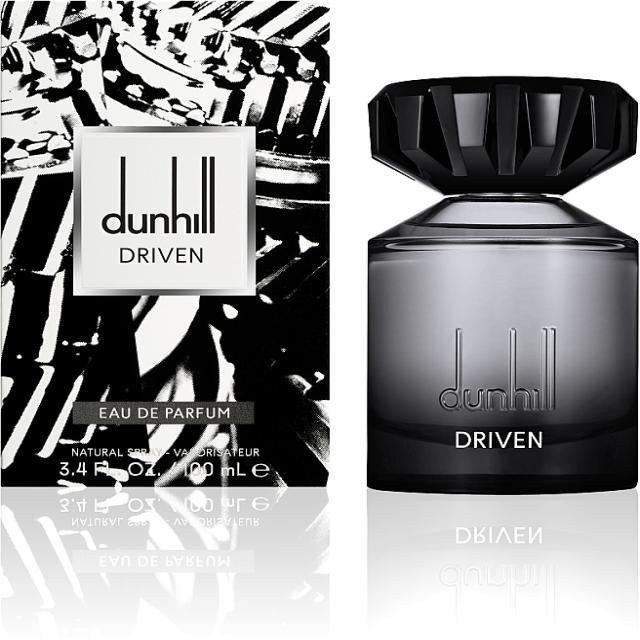dunhill: (3, 0, 331, 490)
